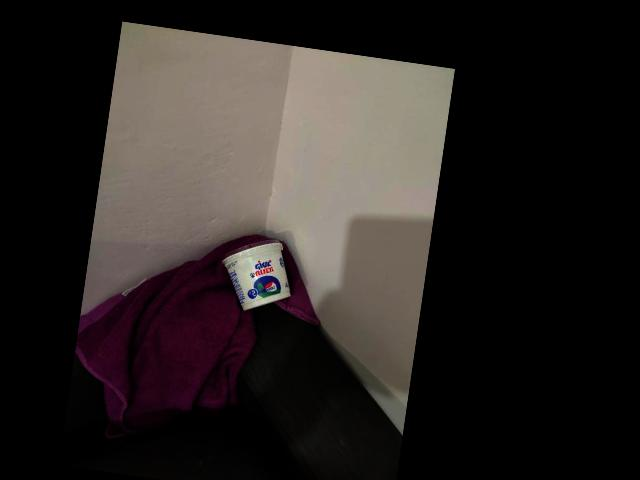cotage: (218, 230, 295, 313)
